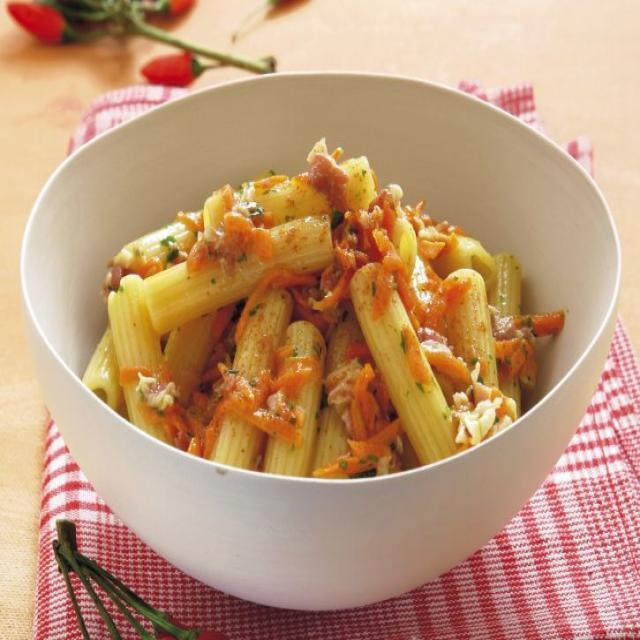Pasta with carbonara sauce: (42, 111, 634, 543)
